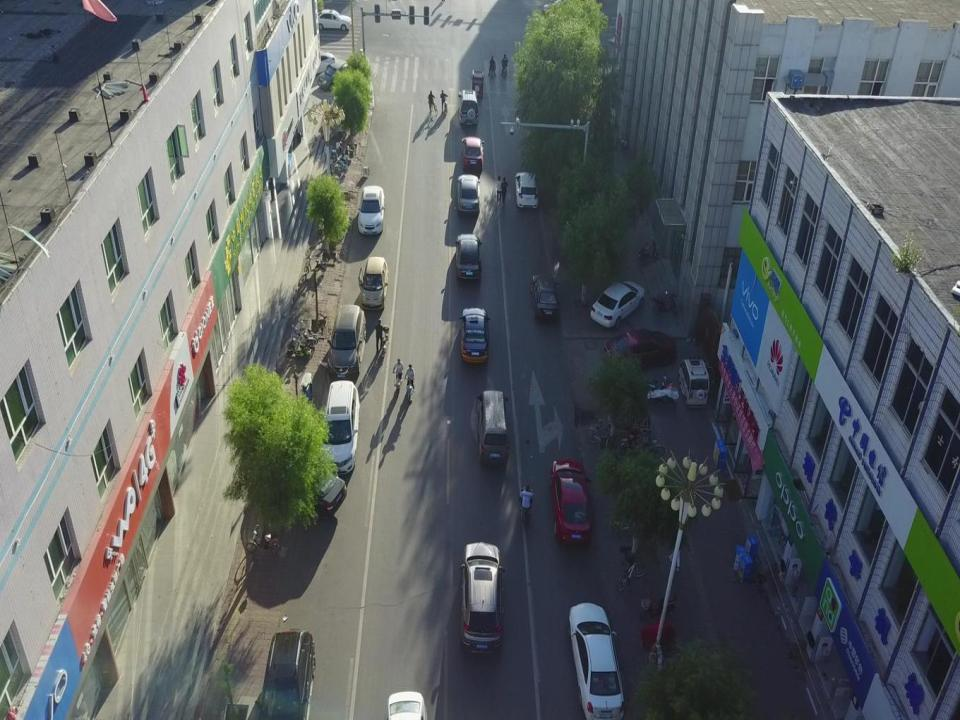car: (567, 601, 625, 720), (255, 628, 316, 720), (458, 542, 506, 655), (319, 380, 360, 476), (549, 458, 592, 546), (283, 459, 347, 516), (604, 327, 677, 371), (326, 303, 366, 378), (590, 280, 645, 328), (458, 307, 491, 364), (358, 256, 388, 311), (357, 186, 386, 236), (530, 274, 560, 321), (454, 234, 482, 280), (317, 62, 355, 91), (456, 174, 481, 217), (515, 170, 539, 210), (303, 51, 335, 78), (460, 137, 484, 173), (314, 9, 352, 31), (542, 0, 576, 18)
van: (476, 390, 509, 466), (458, 90, 478, 126)
